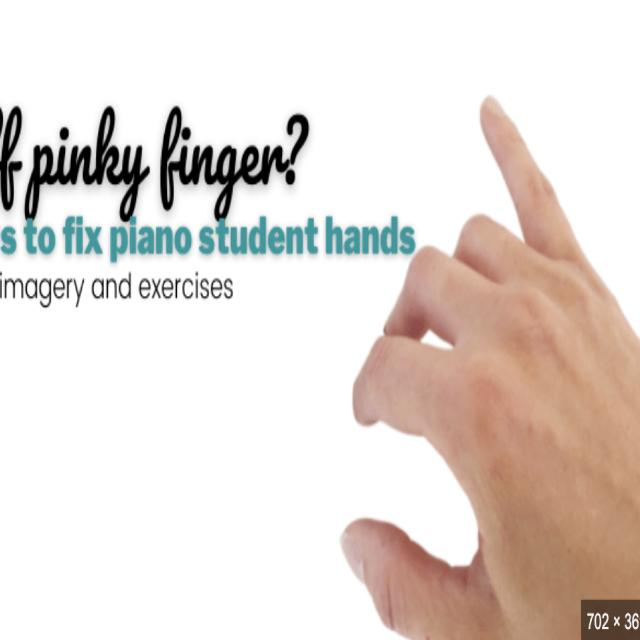pinky: (474, 86, 584, 266)
